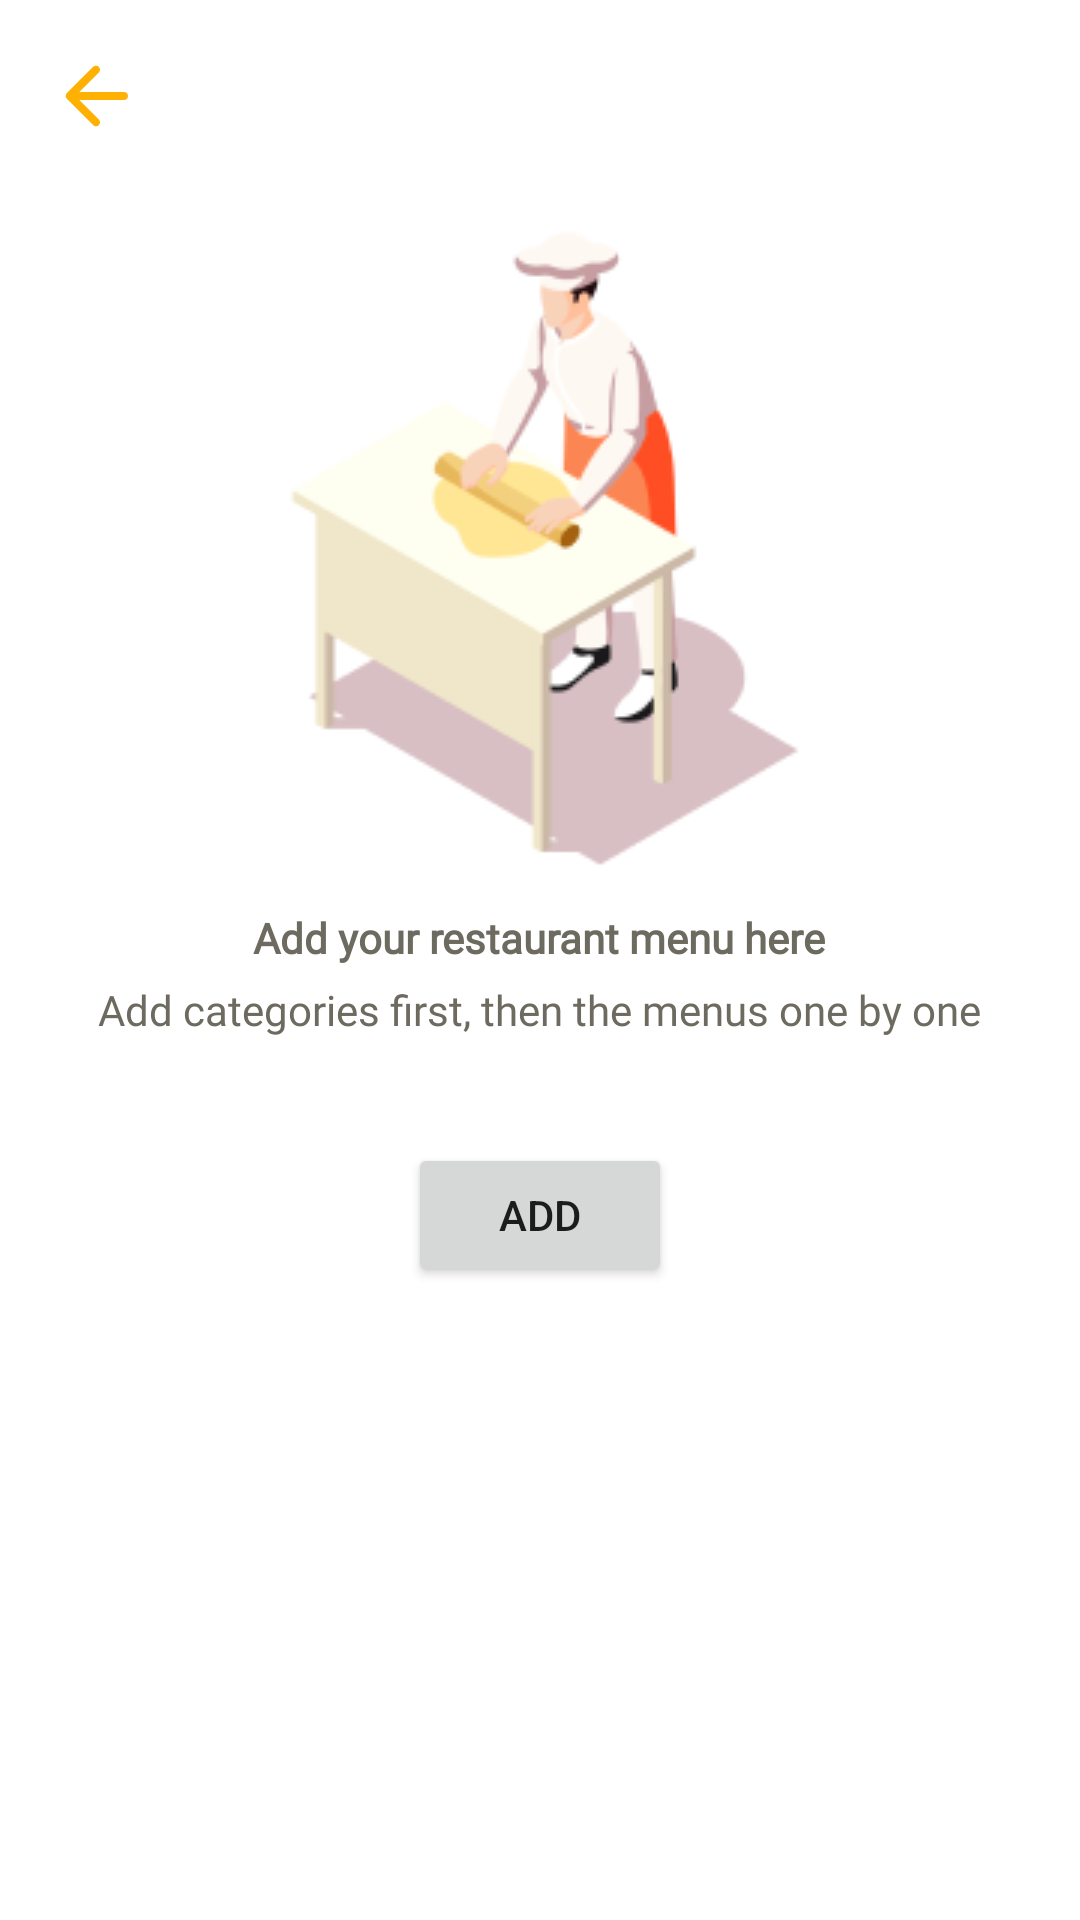

Icon bounding boxes for this 1080*1920 phone screenshot, format detection(x1, y1, x2, y2):
back: detection(65, 65, 128, 127)
